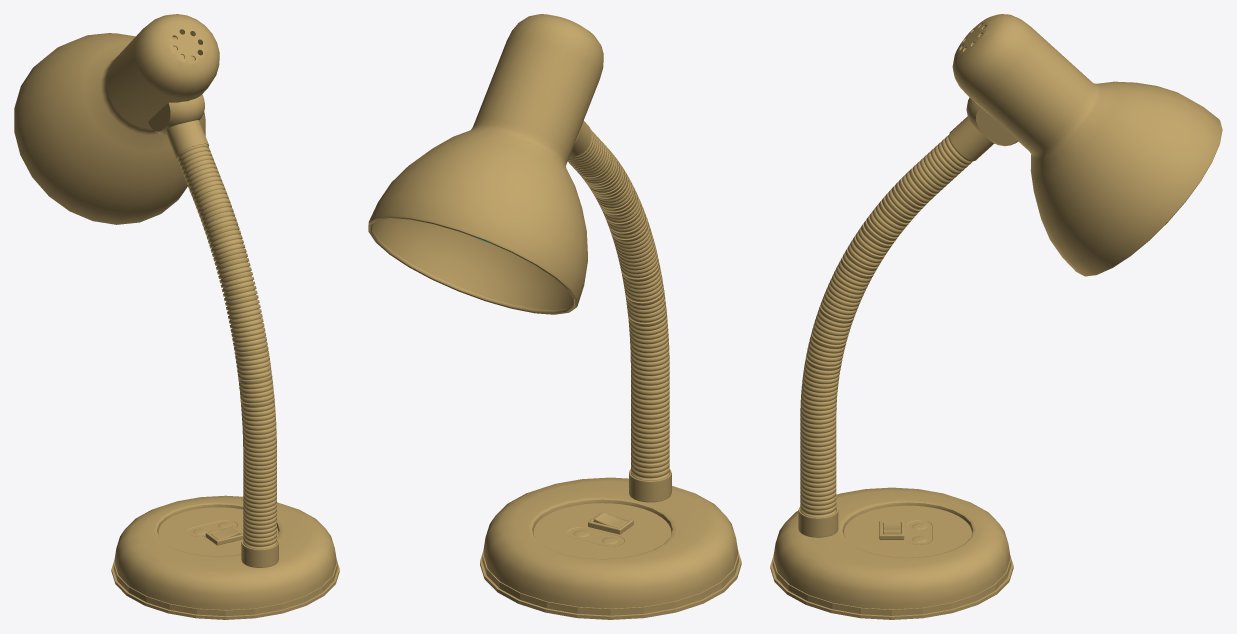
The model's file is Desk_Lamp_Gen_2.fbx.
The picture shows the model from 3 angles, left to right: view 1: azimuth 30°, elevation 25°; view 2: azimuth 150°, elevation 25°; view 3: azimuth 270°, elevation 25°; orthographic projection. The views are drawn at different scales.
Visible parts, largest first — view 1: mesh_lamp; view 2: mesh_lamp; view 3: mesh_lamp.
Part boxes in pixels (x1,y1,x2,y2): mesh_lamp: (14, 14, 339, 619); mesh_lamp: (368, 14, 741, 619); mesh_lamp: (770, 14, 1222, 619).
Bounding box in the file's own units: 14.61 × 36.44 × 27.17.
